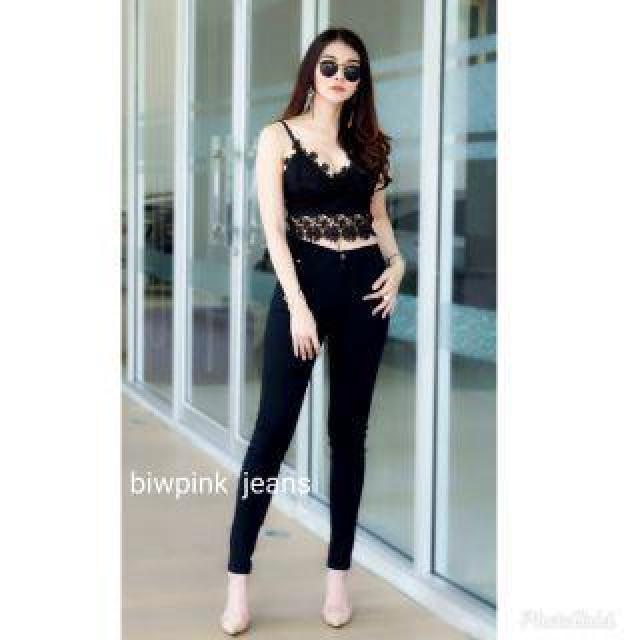pants: (232, 234, 384, 570)
